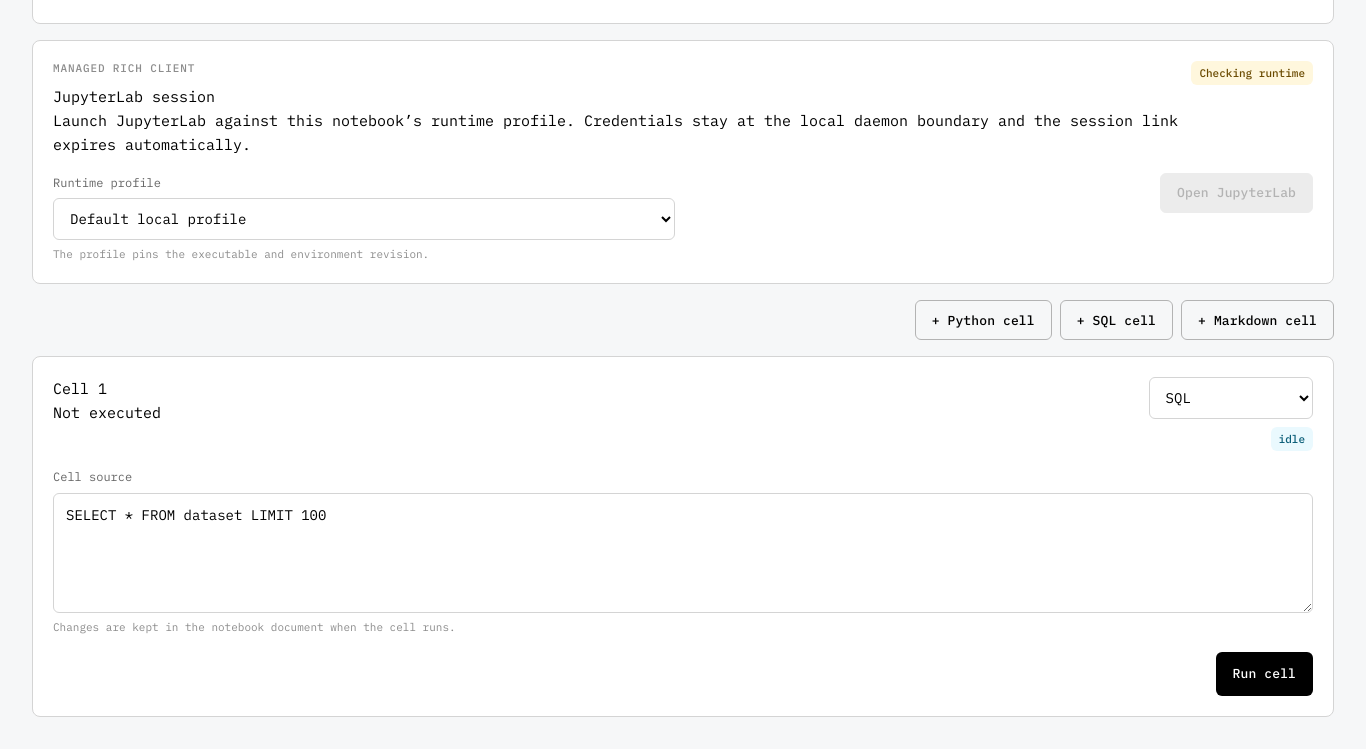
React frontend route and shell smoke coverage › continues an immutable CSV artifact into notebook SQL context
(page scrolled)
Click the button "Run cell" at (1264, 674), box [1216,652,1313,696]
(page scrolled)
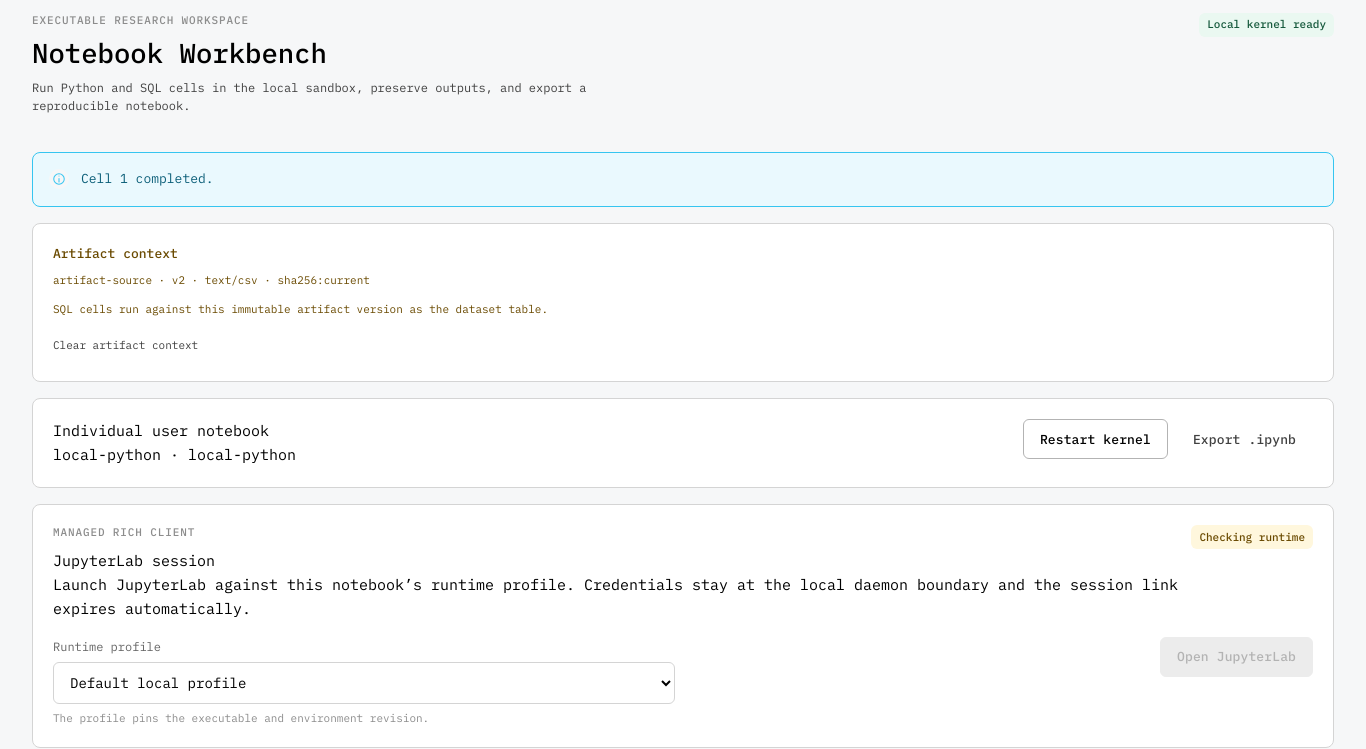
Check: the text "Cell 1 completed." is shown, box [81,169,214,190]
